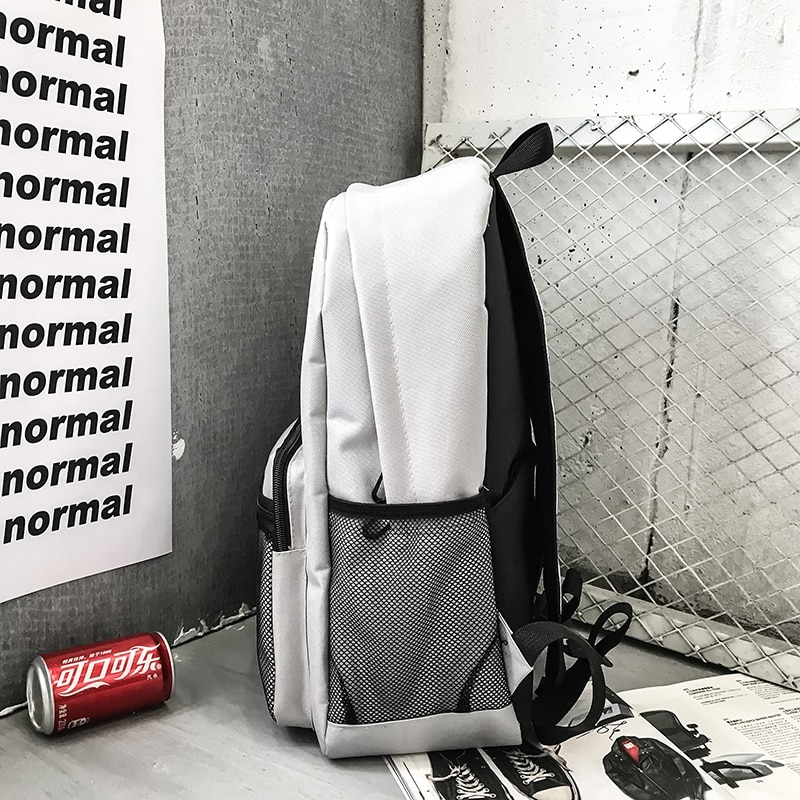Men's Backpacks: (256, 121, 639, 758)
